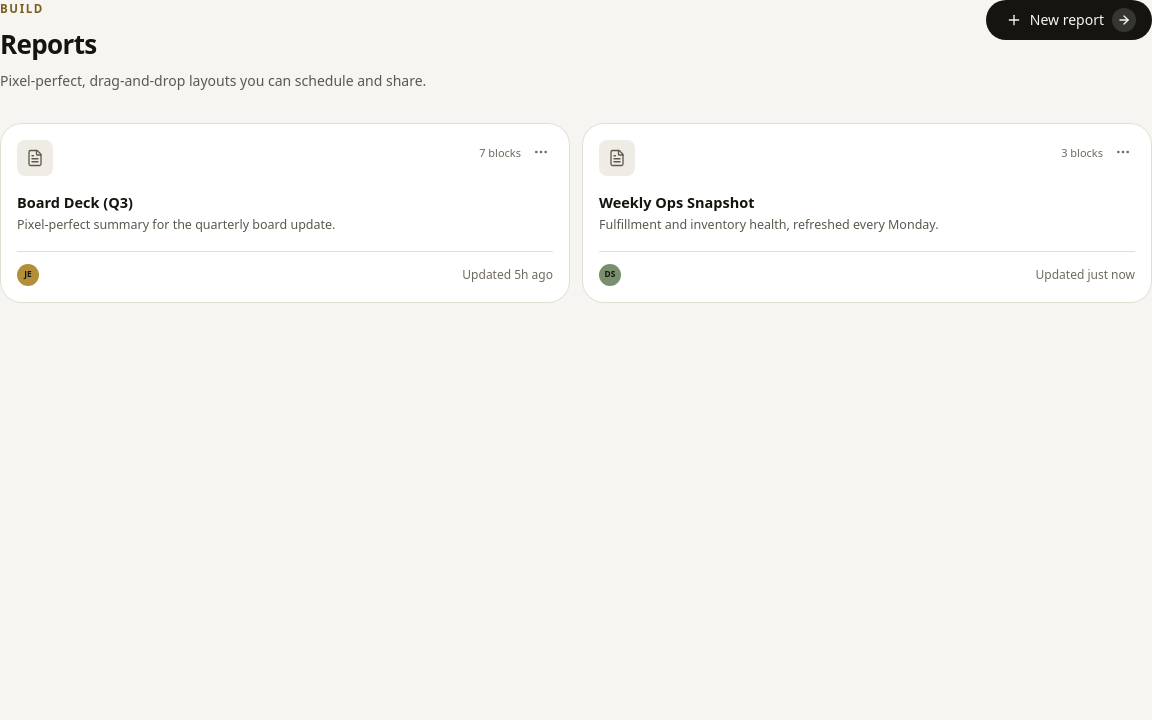
Test: ReportsListPage › lets an owner delete a report after confirming, removing it from the list
Expected: the text "Weekly Ops Snapshot" is shown, [599, 192, 754, 212]
Click the button named "More actions for Weekly Ops Snapshot" at coordinates (1123, 152), box [1111, 140, 1135, 164]
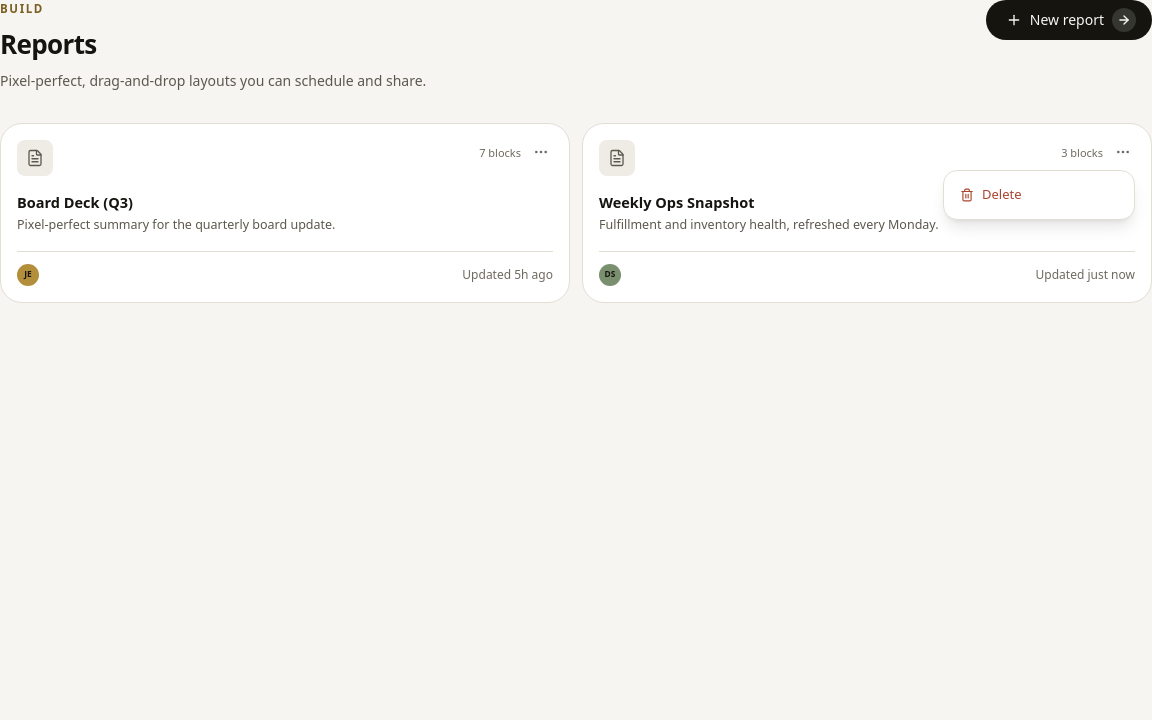
Click the menu item "Delete" at coordinates (991, 194), box [960, 185, 1022, 203]
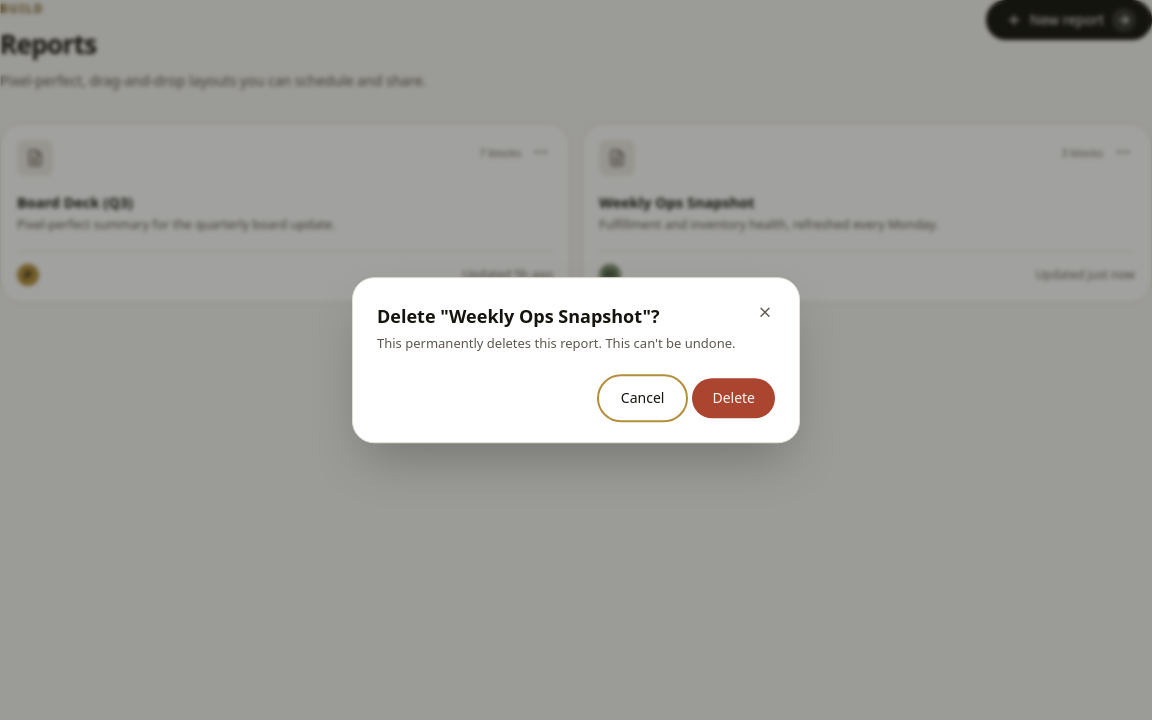
Now the heading "Delete \"Weekly Ops Snapshot\"?" is shown, box [377, 304, 660, 328]
Click the button "Delete" at coordinates (734, 398), box [692, 378, 775, 418]
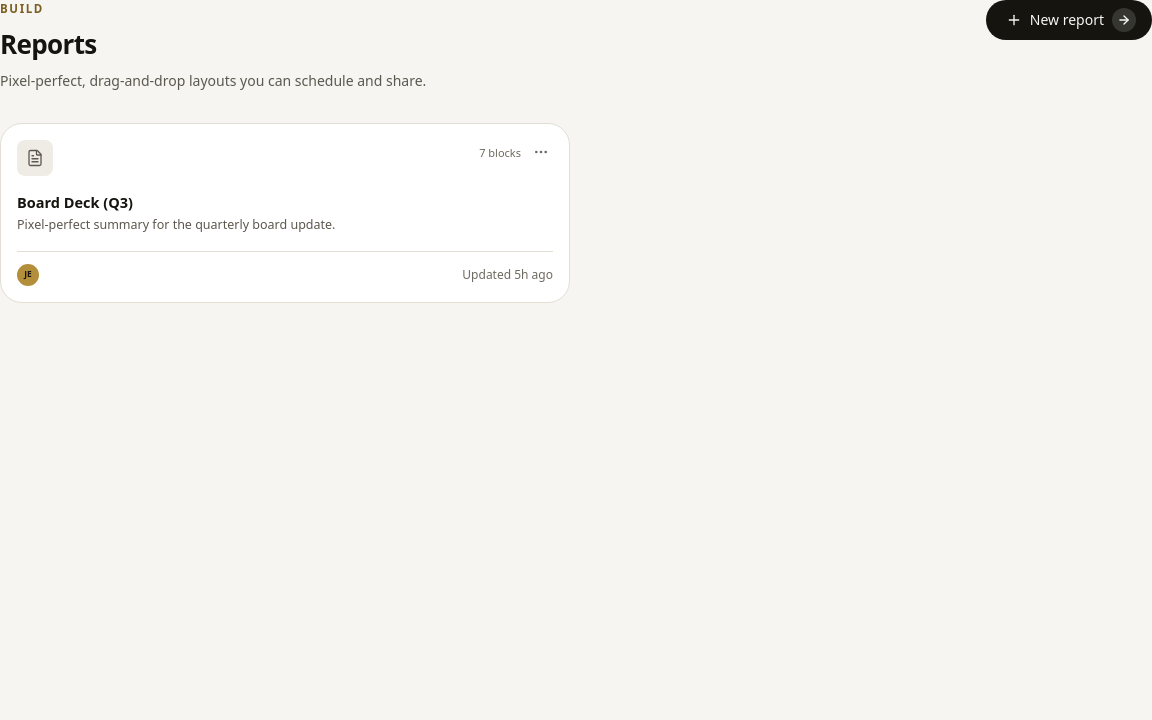
Now the text "Weekly Ops Snapshot" is gone
